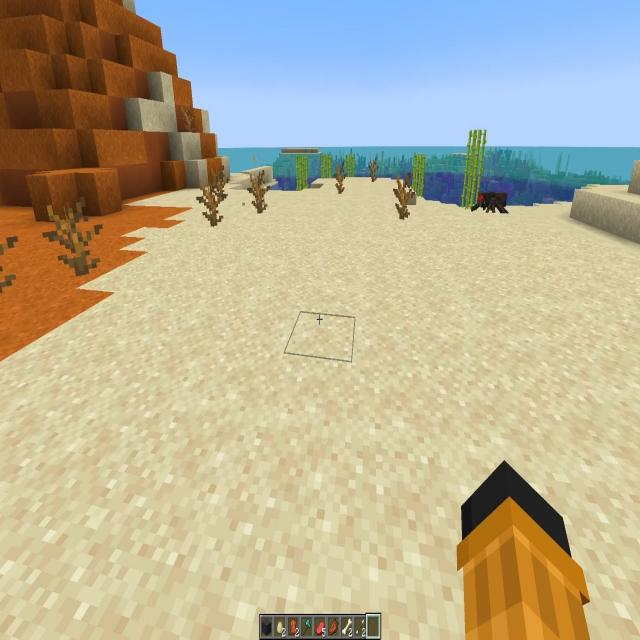Spider: (473, 189, 507, 215)
